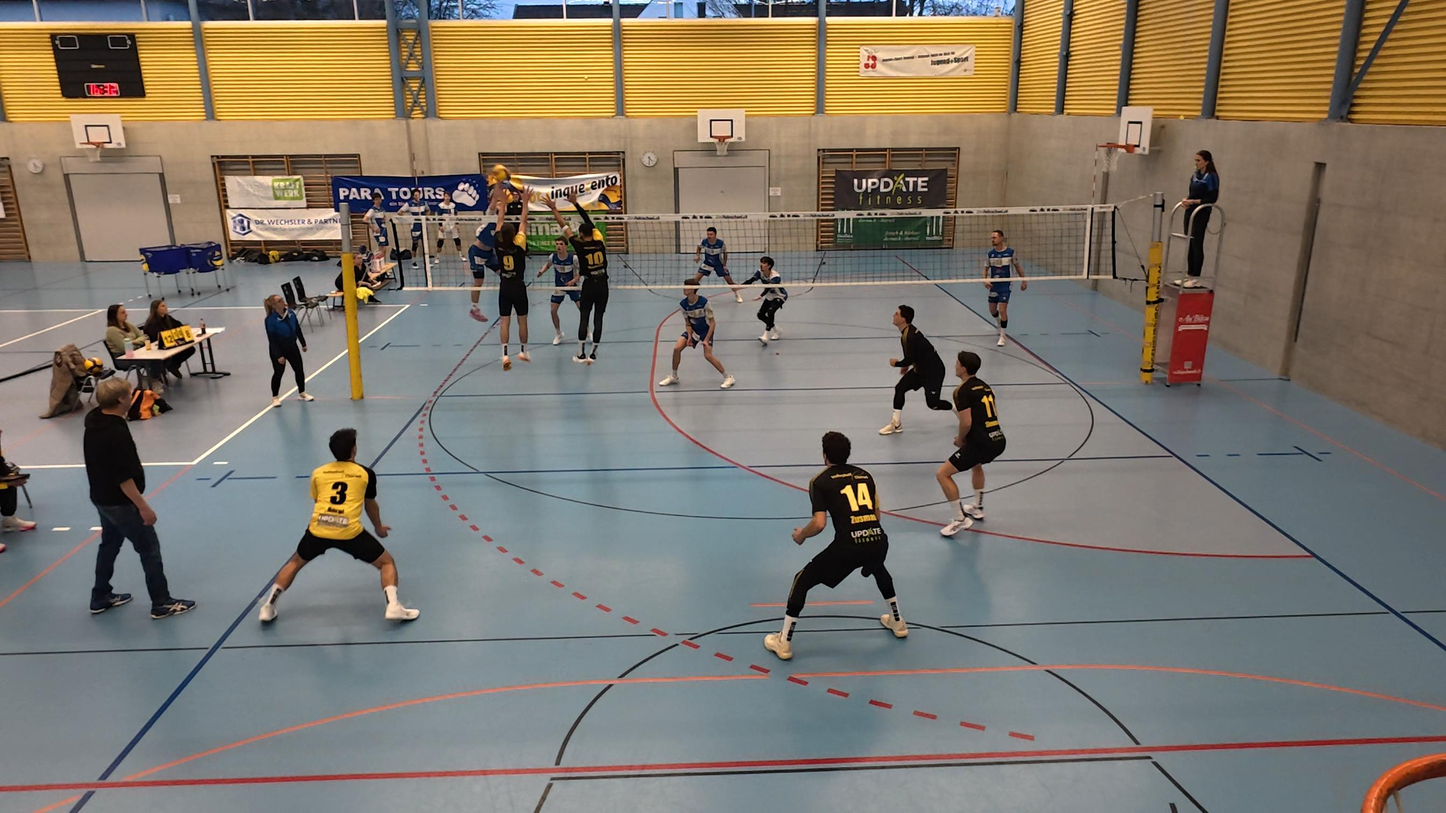Attack: (456, 177, 505, 324)
Block: (557, 183, 621, 366), (483, 185, 539, 372)
Player: (763, 431, 910, 657), (257, 428, 417, 623), (934, 351, 1004, 537), (878, 306, 951, 437), (659, 275, 736, 390), (741, 254, 789, 346), (984, 244, 1026, 349), (543, 242, 582, 343), (694, 224, 737, 298)
ball: (490, 164, 513, 186)
